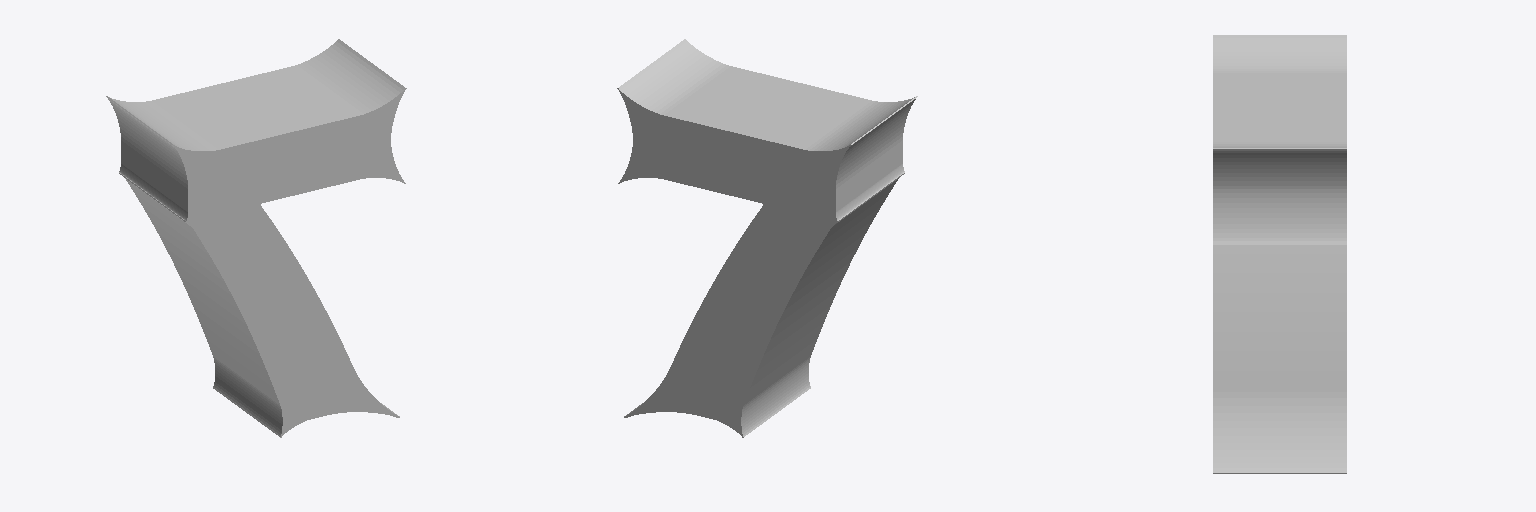
The picture shows the model from 3 angles: view 1: azimuth 30°, elevation 25°; view 2: azimuth 150°, elevation 25°; view 3: azimuth 270°, elevation 25°; orthographic projection.
Visible parts, largest first — view 1: テキスト; view 2: テキスト; view 3: テキスト.
Part boxes in pixels (x1,y1,x2,y2): テキスト: (106, 39, 406, 437); テキスト: (617, 39, 917, 437); テキスト: (1213, 35, 1346, 473).
Bounding box in the file's own units: 0.4005 × 0.538 × 0.2.